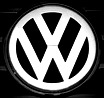Volkswagen: (3, 2, 102, 98)
